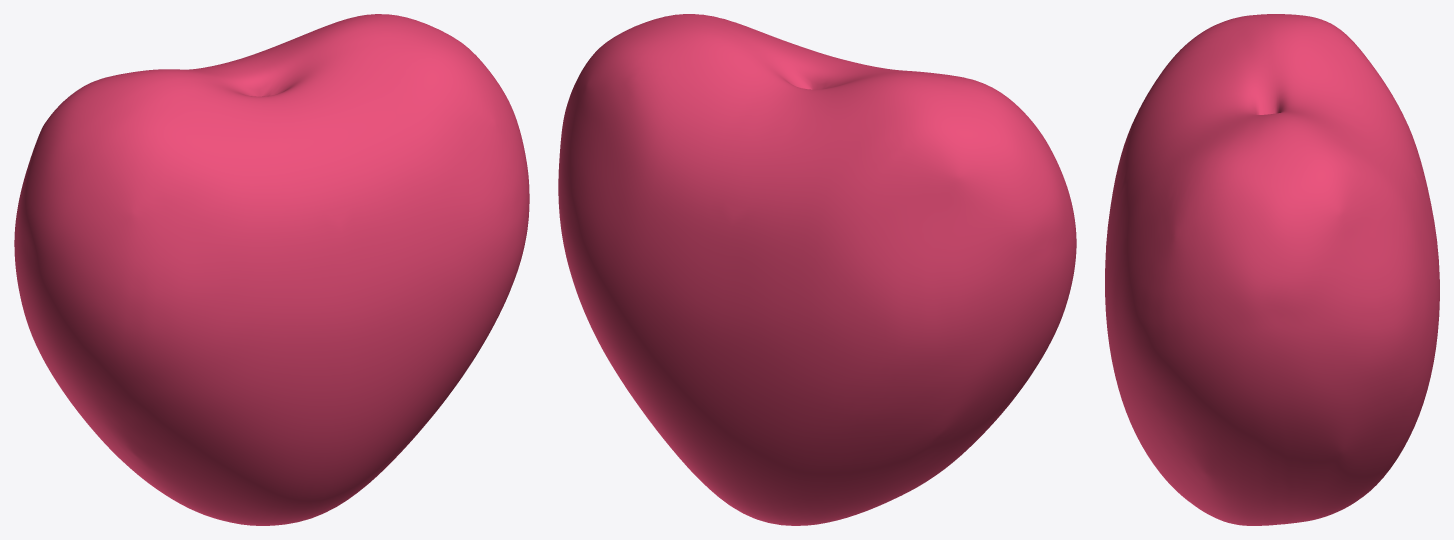
The model's file is Balloon_Fixed.fbx.
The picture shows the model from 3 angles, left to right: view 1: azimuth 30°, elevation 25°; view 2: azimuth 150°, elevation 25°; view 3: azimuth 270°, elevation 25°; orthographic projection. The views are drawn at different scales.
Parts seen in each view (by area): view 1: Balloon; view 2: Balloon; view 3: Balloon.
Part boxes in pixels (x1,y1,x2,y2): Balloon: [14, 14, 529, 525]; Balloon: [558, 14, 1076, 525]; Balloon: [1105, 14, 1439, 525].
Size of the model in its own units: 278 by 176 by 253.
